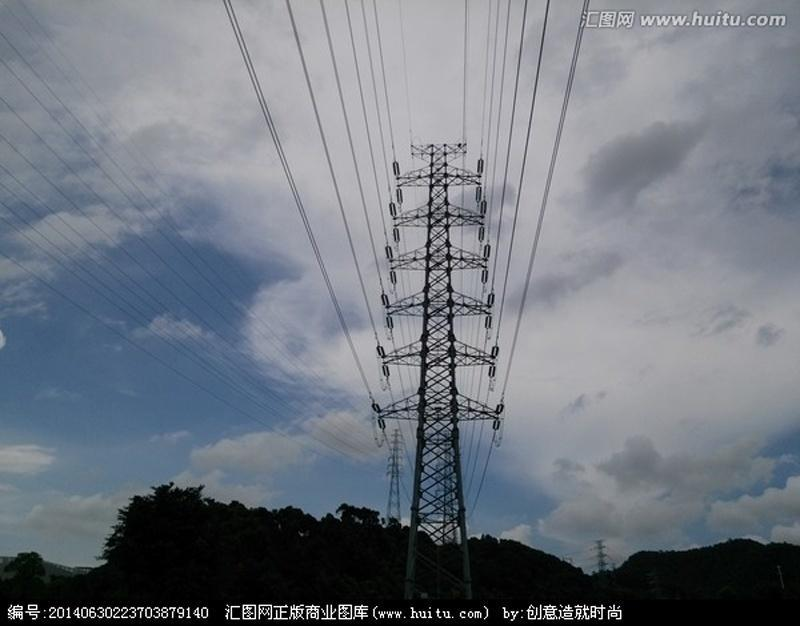power_tower: (368, 138, 507, 599), (386, 427, 405, 524), (588, 537, 609, 574)
